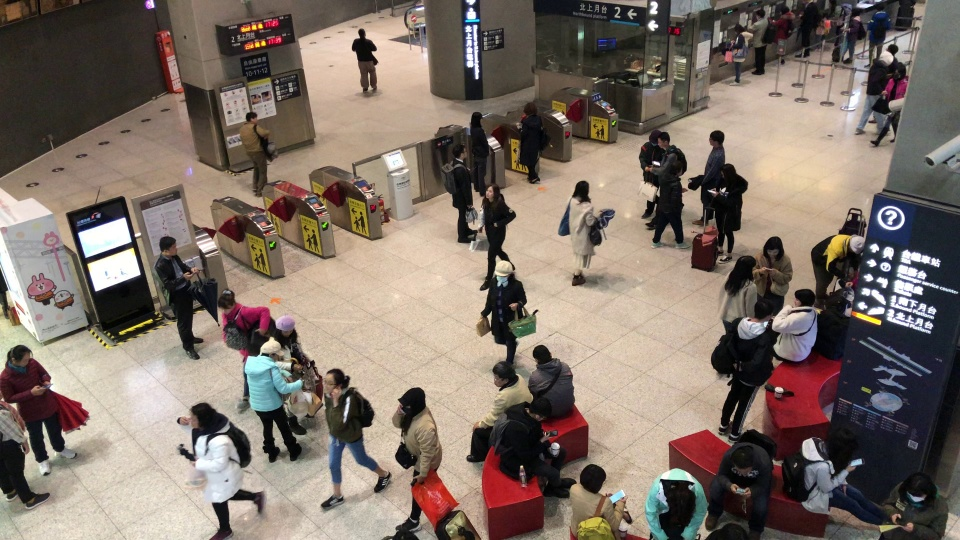person_head: (830, 429, 860, 463), (579, 463, 607, 494), (905, 474, 930, 503), (402, 387, 426, 415), (731, 447, 753, 476), (323, 368, 347, 393), (671, 490, 695, 515), (189, 402, 212, 428), (491, 361, 514, 387), (528, 397, 552, 421), (734, 254, 756, 278), (9, 345, 32, 367), (260, 340, 282, 361), (763, 235, 784, 257), (753, 299, 774, 321), (216, 289, 235, 313), (275, 315, 295, 337), (494, 260, 513, 282), (794, 288, 816, 307), (158, 236, 178, 255), (532, 344, 552, 363), (850, 234, 865, 255), (573, 180, 589, 197), (708, 130, 724, 147), (720, 163, 736, 179), (891, 63, 907, 79), (451, 144, 467, 159), (879, 51, 894, 66), (657, 132, 670, 149), (485, 184, 500, 198), (648, 130, 661, 146), (470, 111, 484, 125), (522, 102, 537, 115), (670, 161, 683, 176), (244, 111, 258, 122), (886, 44, 898, 55), (755, 8, 766, 19), (734, 23, 744, 34), (780, 5, 790, 15), (850, 8, 860, 17), (358, 27, 366, 38), (874, 3, 884, 11), (828, 1, 838, 7), (803, 0, 813, 3)
person_vbox: (175, 402, 266, 540), (318, 368, 393, 510), (781, 428, 888, 526), (0, 344, 77, 476), (710, 298, 777, 443), (488, 397, 577, 499), (704, 429, 777, 539), (243, 340, 303, 464), (391, 387, 442, 530), (466, 361, 533, 463), (216, 289, 271, 409), (152, 236, 204, 359), (0, 400, 50, 511), (272, 315, 318, 434), (477, 260, 527, 367), (877, 471, 949, 540), (569, 464, 633, 540), (644, 467, 708, 540), (643, 132, 688, 229), (557, 179, 598, 284), (810, 233, 866, 308), (708, 163, 748, 265), (649, 158, 693, 249), (526, 344, 576, 421), (439, 144, 478, 242), (479, 183, 514, 291), (772, 287, 817, 363), (751, 236, 793, 316), (853, 51, 892, 136), (869, 62, 908, 146), (691, 130, 725, 226), (716, 254, 757, 333), (239, 111, 274, 197), (515, 102, 550, 183), (867, 44, 898, 122), (638, 129, 664, 216), (747, 8, 776, 76), (863, 3, 891, 68), (469, 112, 490, 196), (351, 27, 378, 92), (767, 5, 795, 67), (728, 23, 753, 86), (794, 0, 820, 58), (839, 8, 866, 63), (828, 1, 851, 49), (719, 522, 750, 539)
